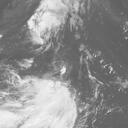cyclone: (13, 77, 77, 127), (26, 3, 80, 46)
